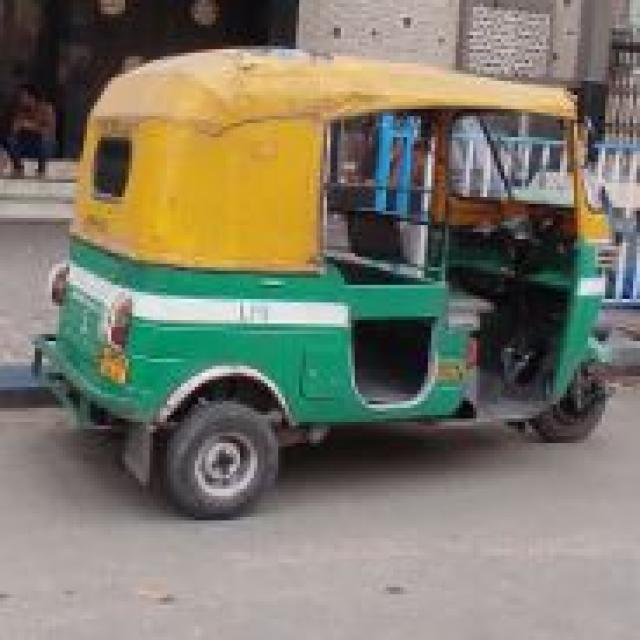autorickshaw: (46, 39, 620, 522)
